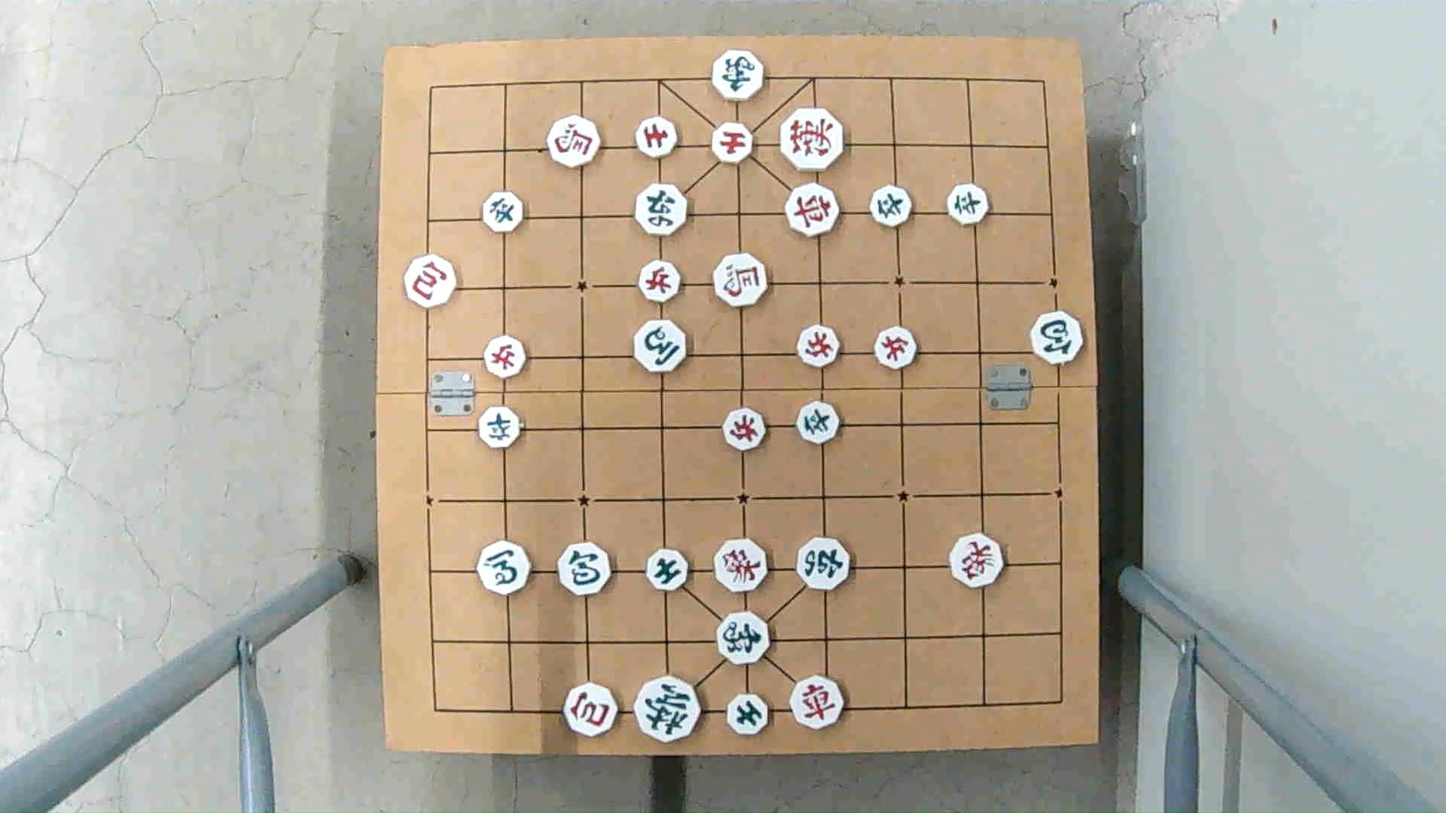cha_green: (634, 186, 690, 235), (798, 537, 850, 588)
cha_red: (790, 678, 847, 729), (786, 184, 844, 233)
jol_green: (796, 403, 843, 443), (947, 183, 991, 224), (475, 410, 522, 448), (480, 193, 524, 233), (868, 187, 911, 224)
jol_red: (874, 326, 920, 369), (795, 327, 842, 367), (637, 263, 683, 302), (721, 410, 767, 449), (482, 338, 528, 376)
ma_green: (631, 322, 688, 372), (476, 546, 532, 594)
ma_red: (714, 256, 771, 306), (544, 118, 599, 166)
po_green: (1029, 314, 1087, 364), (557, 544, 612, 592)
po_red: (561, 682, 621, 735), (401, 257, 458, 306)
sa_green: (724, 695, 773, 735), (644, 548, 691, 588)
sa_red: (710, 122, 757, 164), (635, 117, 680, 158)
sang_green: (716, 614, 772, 662), (713, 52, 764, 100)
sang_red: (950, 537, 1005, 587), (713, 539, 767, 589)
wang_green: (631, 678, 701, 741)
wang_red: (781, 108, 846, 172)
